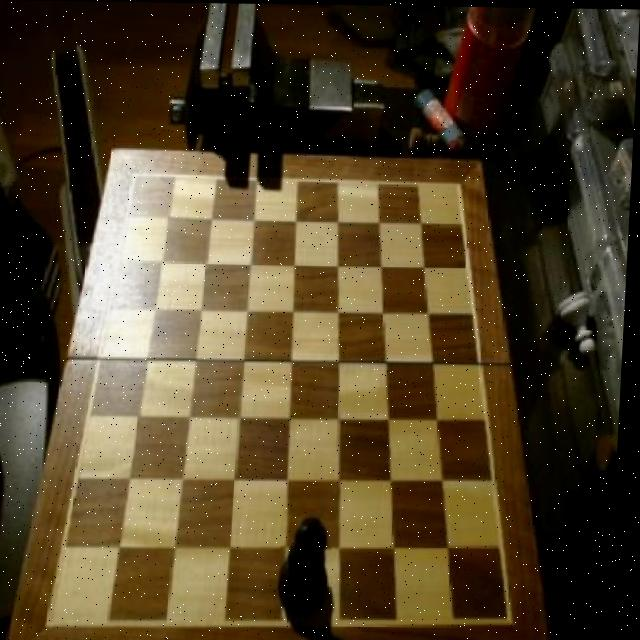black-bishop: (282, 508, 339, 618)
